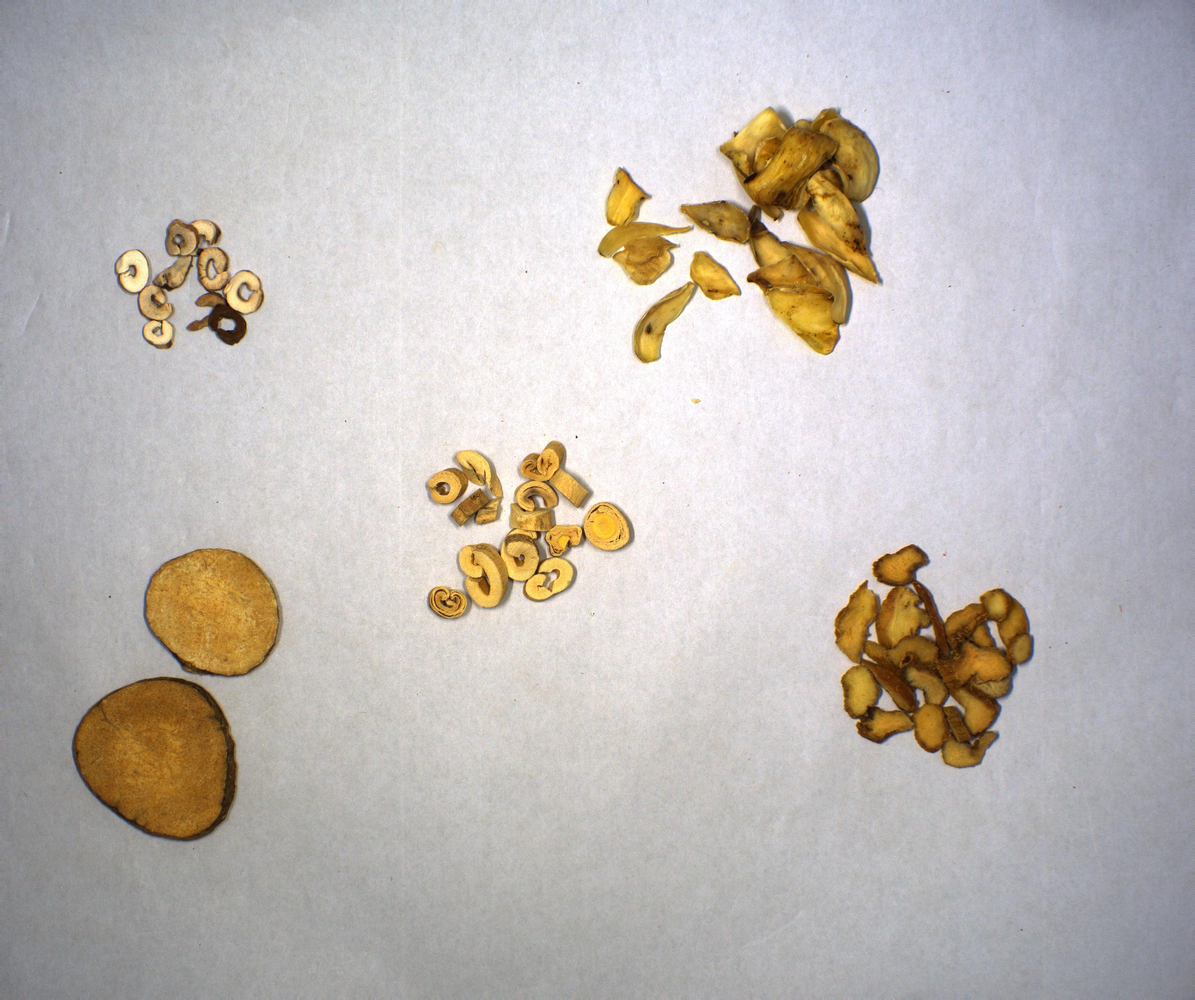baihe: (597, 104, 886, 368)
baixianpi: (422, 436, 639, 627)
mudanpi: (113, 213, 268, 356)
yuzhu: (832, 543, 1038, 772)
zexie: (73, 547, 284, 843)
